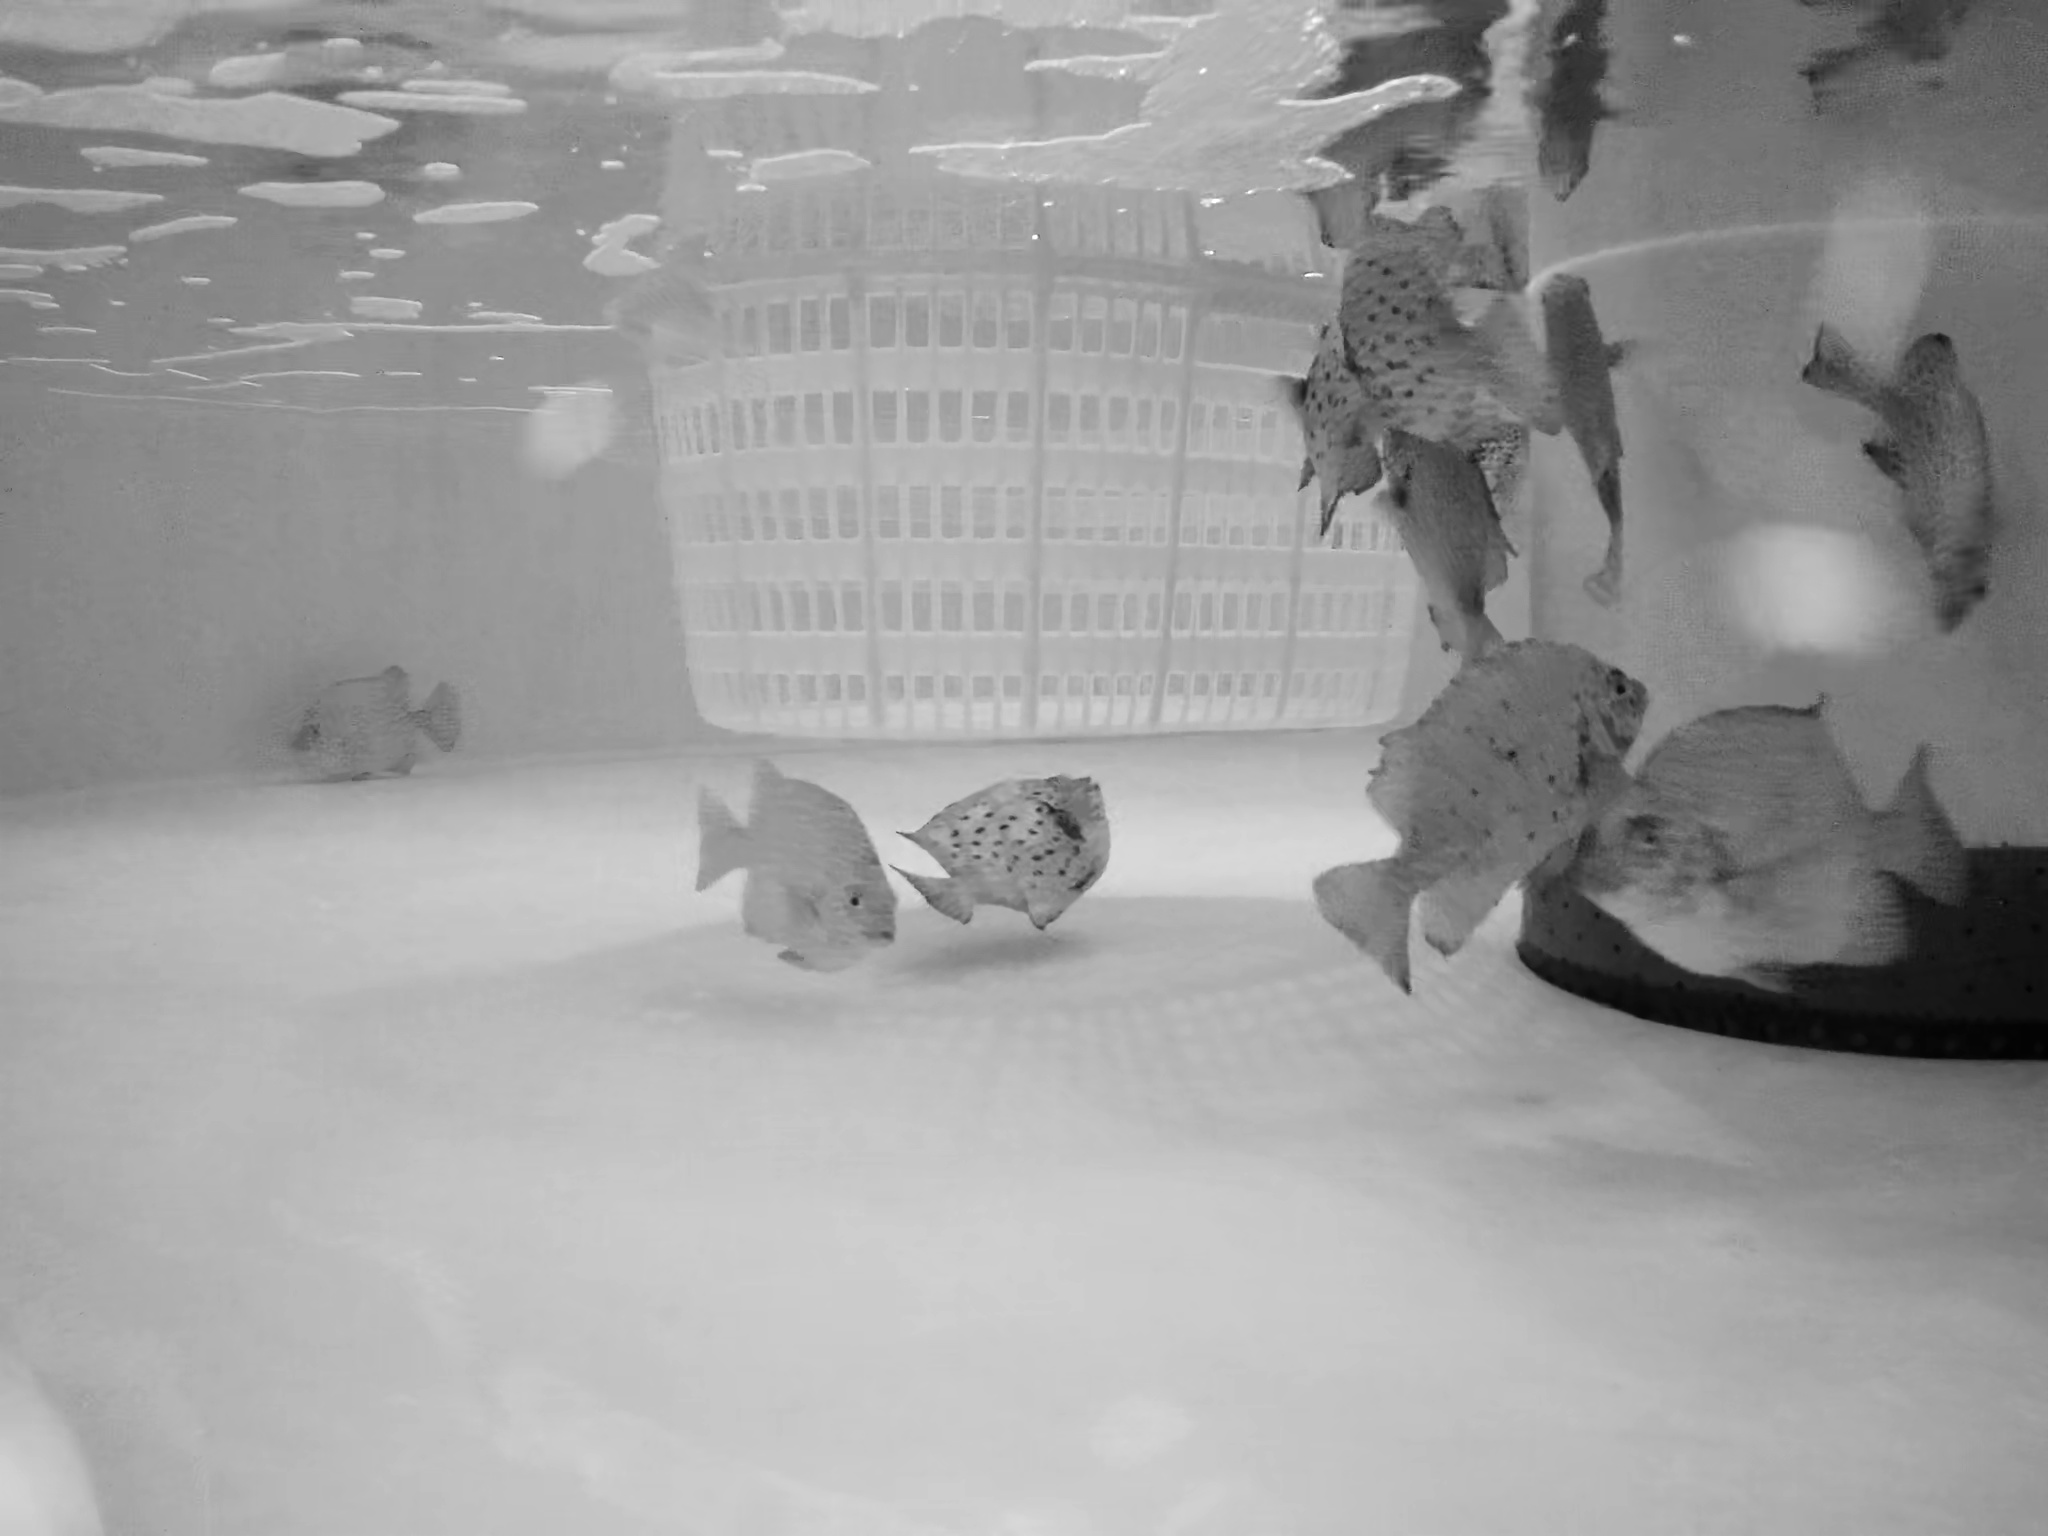fish: (1582, 684, 1963, 995), (1330, 628, 1669, 975), (1803, 307, 2004, 636), (1326, 221, 1569, 445), (682, 758, 910, 968), (1519, 273, 1651, 621), (1369, 423, 1519, 671), (910, 774, 1122, 936), (287, 666, 468, 776), (1284, 328, 1376, 516), (1451, 410, 1538, 549)
